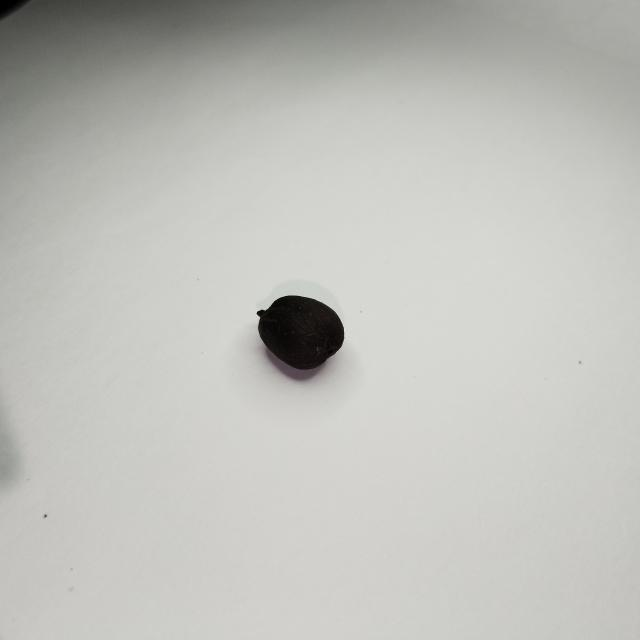Danado: (258, 296, 342, 369)
